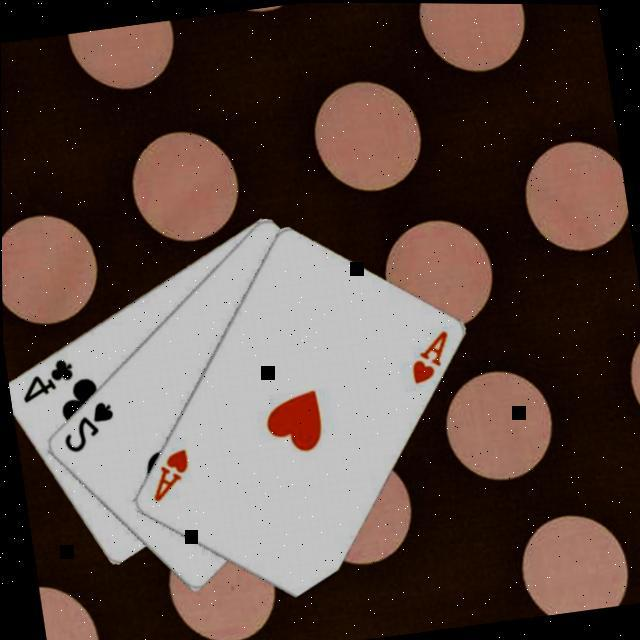2S: (56, 398, 122, 458)
4C: (15, 354, 80, 408)
AH: (404, 326, 458, 388), (144, 445, 198, 506)
